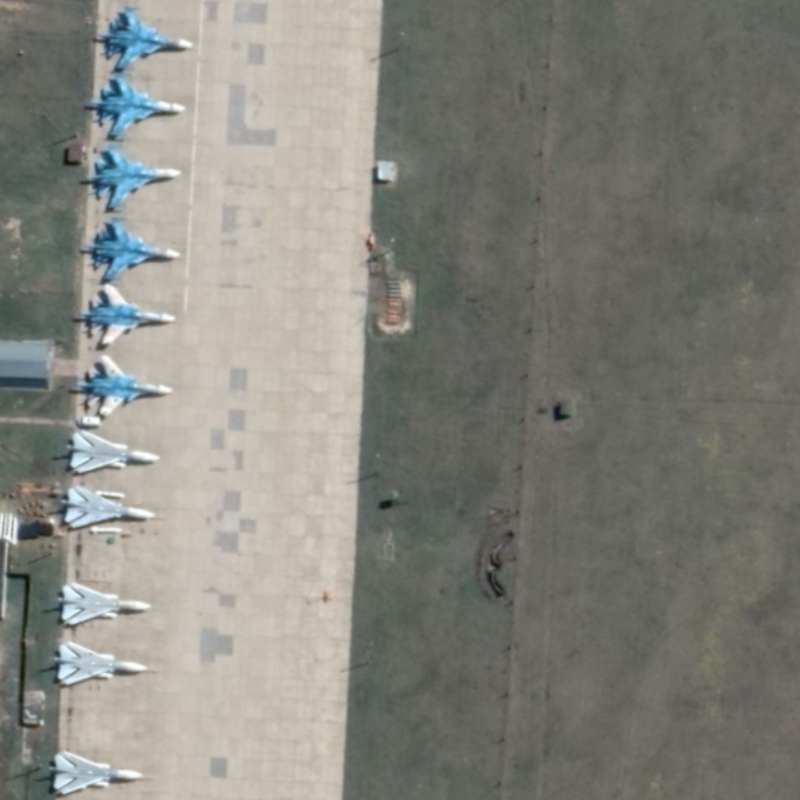A19: (94, 4, 196, 72), (82, 213, 184, 281), (73, 352, 175, 418), (87, 72, 188, 138), (85, 141, 183, 209), (77, 282, 177, 346)
A20: (64, 427, 163, 476), (47, 748, 145, 797), (52, 639, 150, 687), (56, 580, 153, 628), (59, 483, 157, 530)
